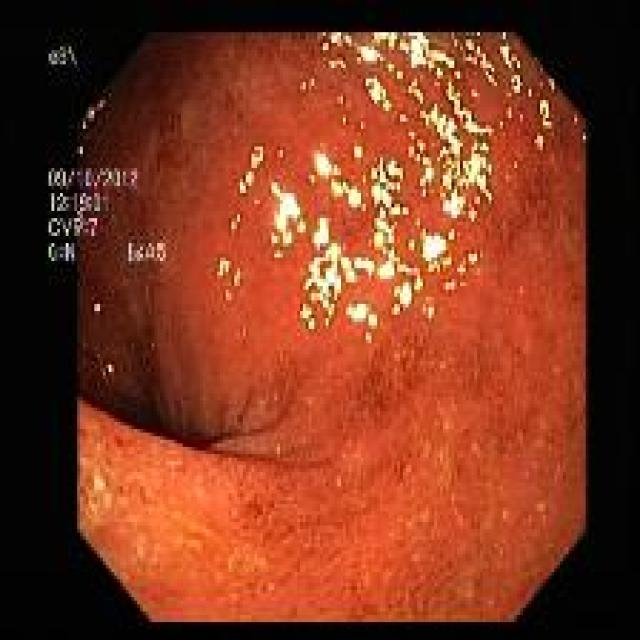ulcerative-colitis: (76, 33, 586, 621)
